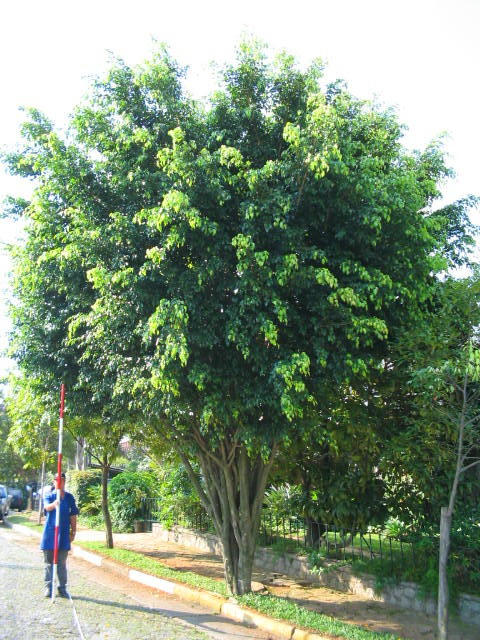crown: (6, 35, 476, 466)
stem: (200, 513, 288, 594)
stick: (49, 385, 69, 603)
tree: (3, 33, 477, 596)
